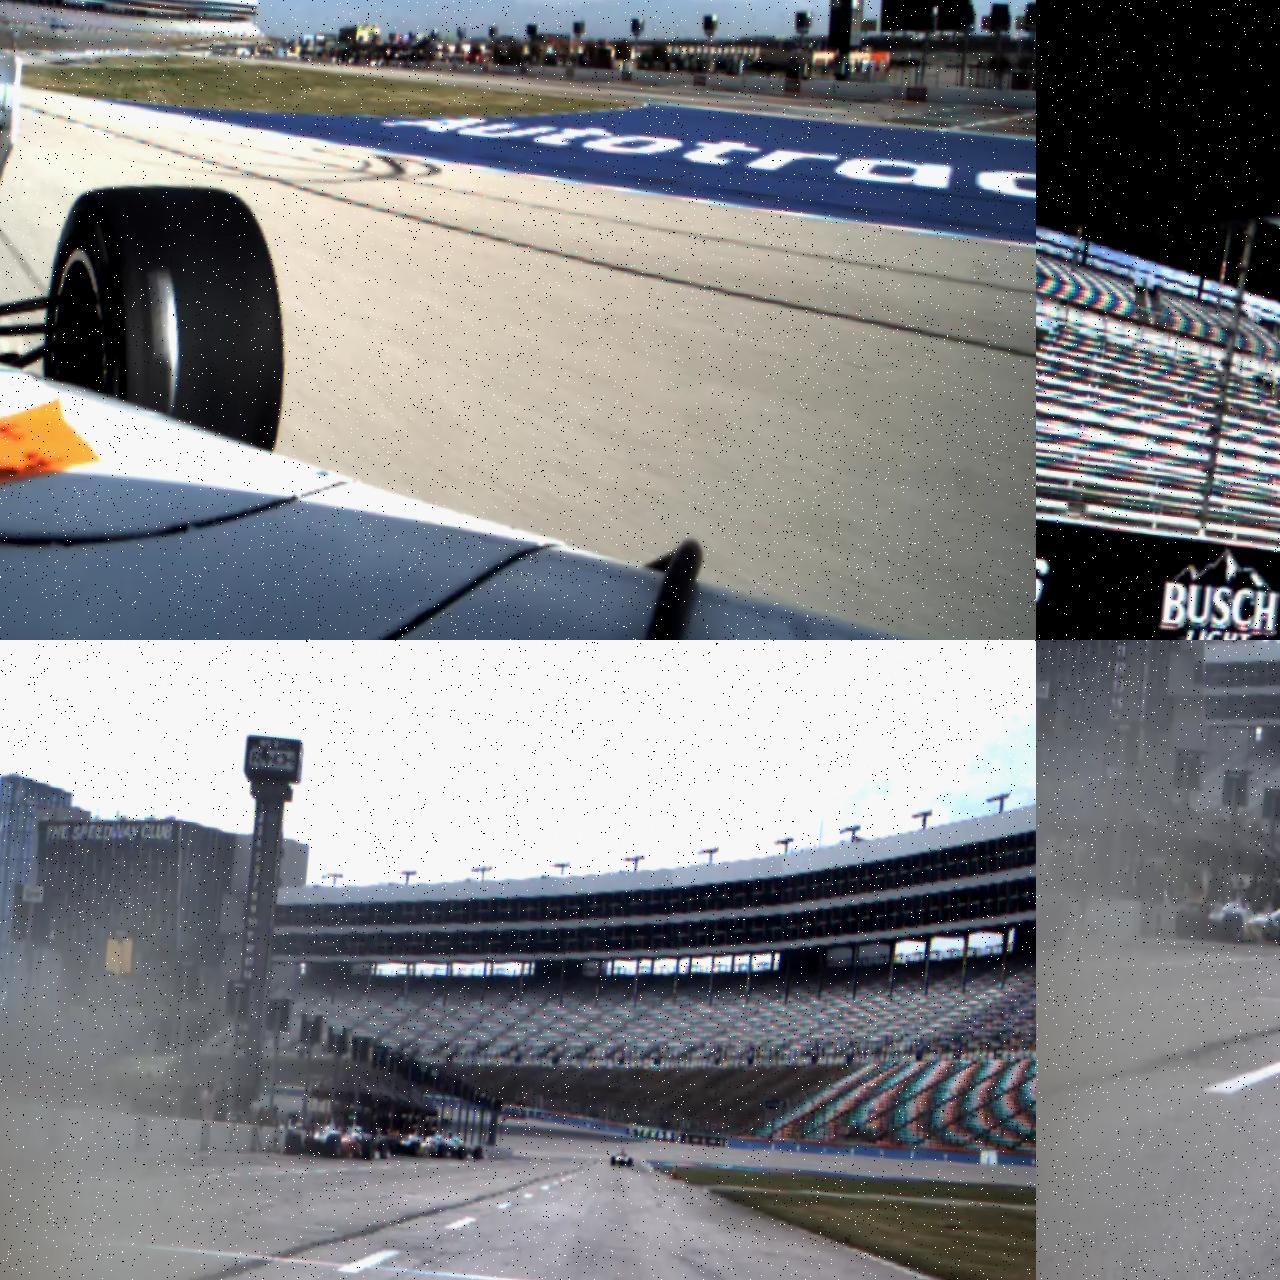AV: (610, 1148, 634, 1168)
Wheel: (33, 170, 304, 453), (1174, 909, 1200, 940), (1220, 912, 1244, 944), (324, 1134, 342, 1158), (286, 1131, 302, 1154), (362, 1140, 375, 1161), (377, 1140, 388, 1160), (457, 1146, 468, 1160), (472, 1146, 482, 1161), (436, 1144, 446, 1158), (610, 1156, 616, 1164), (628, 1158, 632, 1167)
